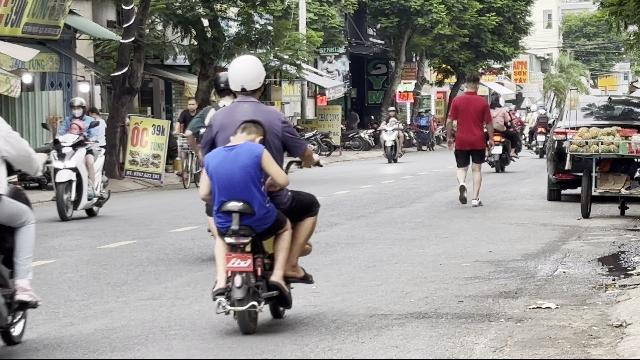helmet: (225, 53, 268, 100), (212, 70, 230, 98), (68, 96, 86, 118)
motorcyclist: (196, 53, 324, 335), (44, 96, 112, 220)
nohelmet: (228, 117, 268, 155), (66, 120, 84, 136)
